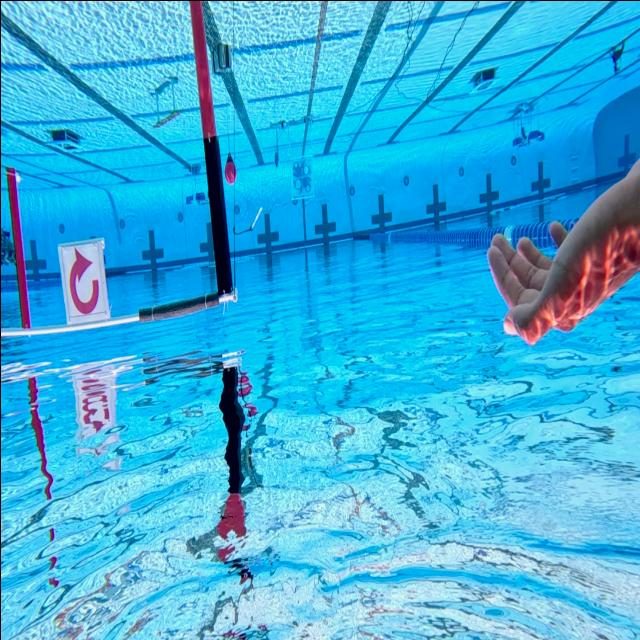red_side: (58, 238, 109, 328)
